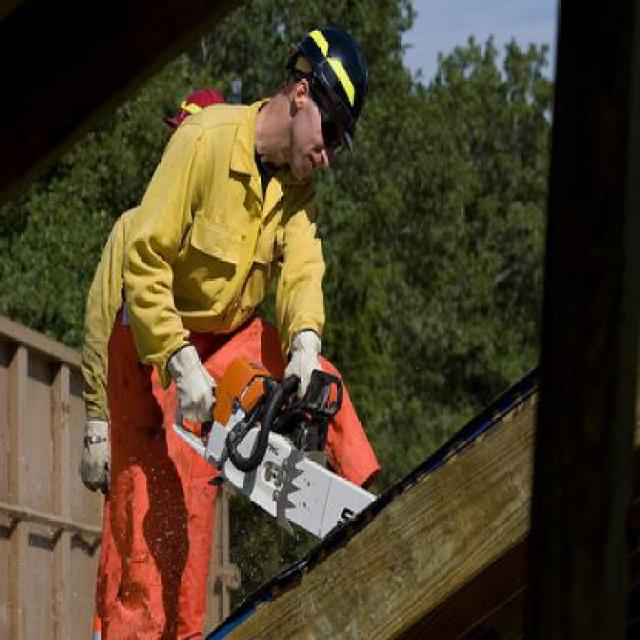Chainsaw: (169, 357, 377, 546)
